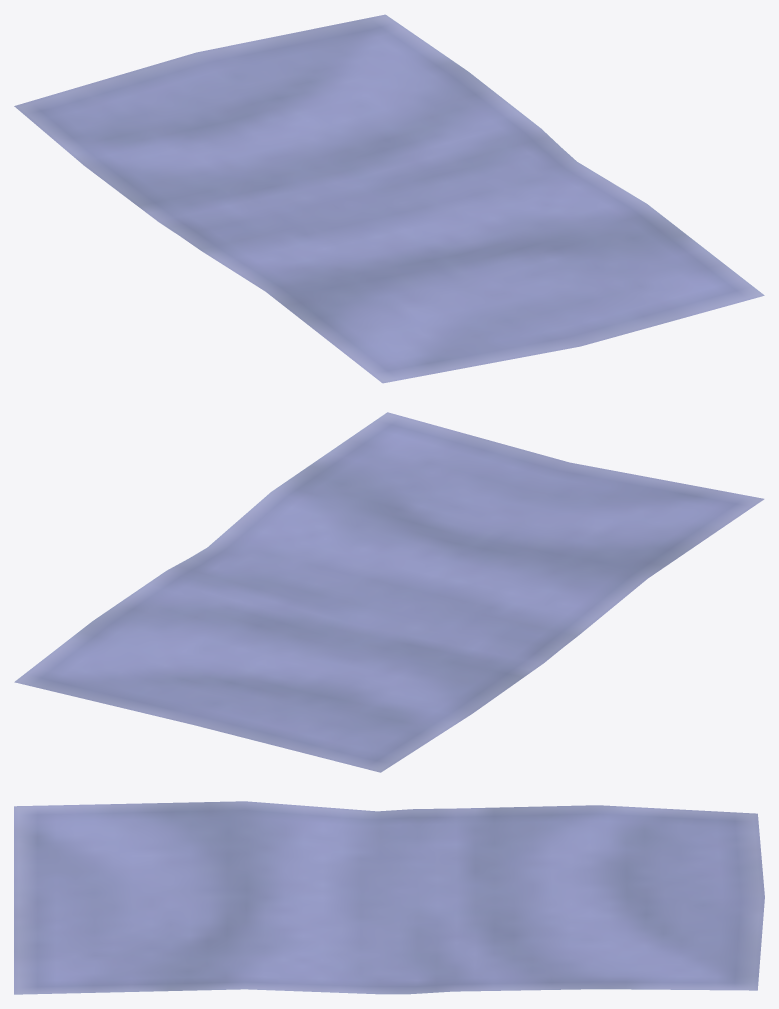
Rendered from jsf_DustCloth02_a.fbx.
The picture shows the model from 3 angles, top to bottom: view 1: azimuth 30°, elevation 25°; view 2: azimuth 150°, elevation 25°; view 3: azimuth 270°, elevation 25°; orthographic projection.
Visible parts, largest first — view 1: jsf_DustCloth02_a; view 2: jsf_DustCloth02_a; view 3: jsf_DustCloth02_a.
Part boxes in pixels (box(x1,y1,x2,y2)): jsf_DustCloth02_a: box(14, 14, 764, 383); jsf_DustCloth02_a: box(14, 412, 764, 772); jsf_DustCloth02_a: box(14, 801, 764, 994).
Bounding box in the file's own units: 15.91 × 0.7681 × 27.41.
